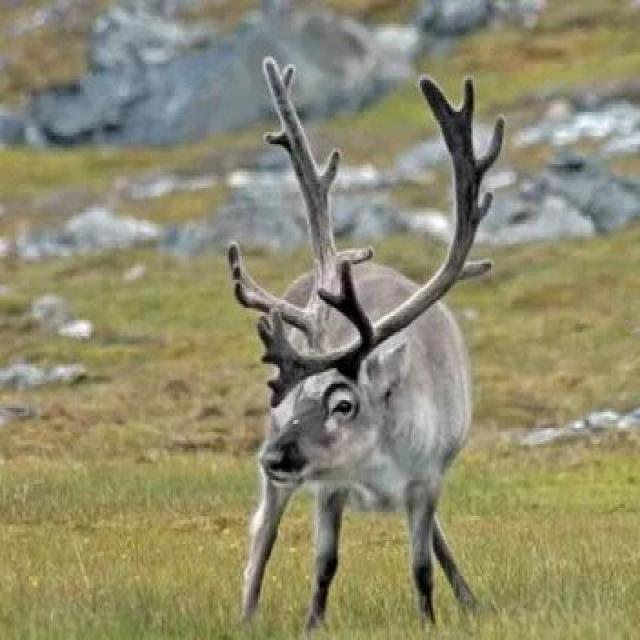deer: (158, 113, 572, 612)
